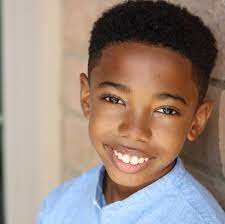person: (79, 3, 213, 189)
